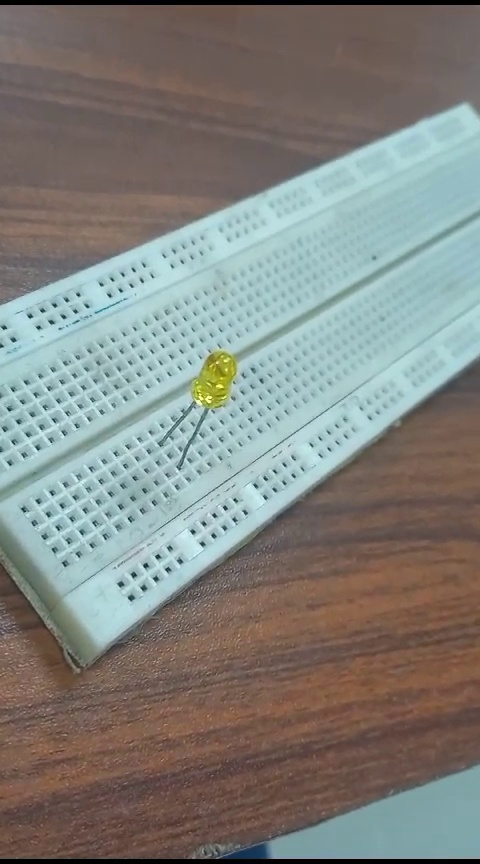LED: (151, 340, 240, 475)
